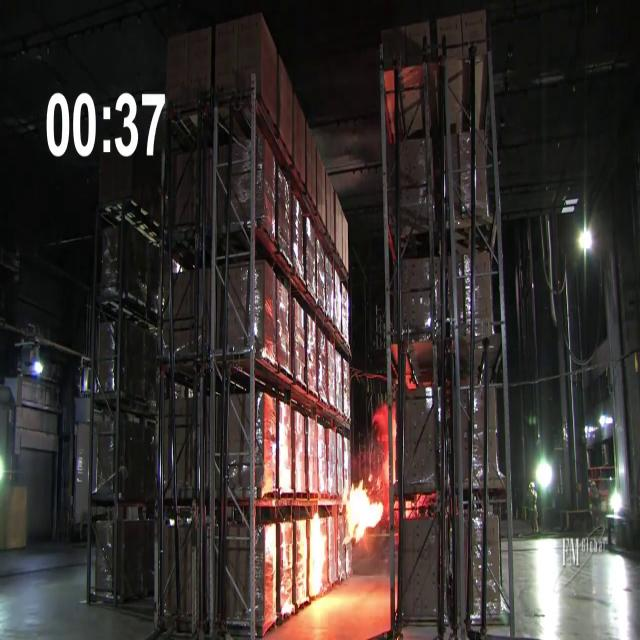fire: (342, 475, 385, 548), (309, 508, 329, 602)
